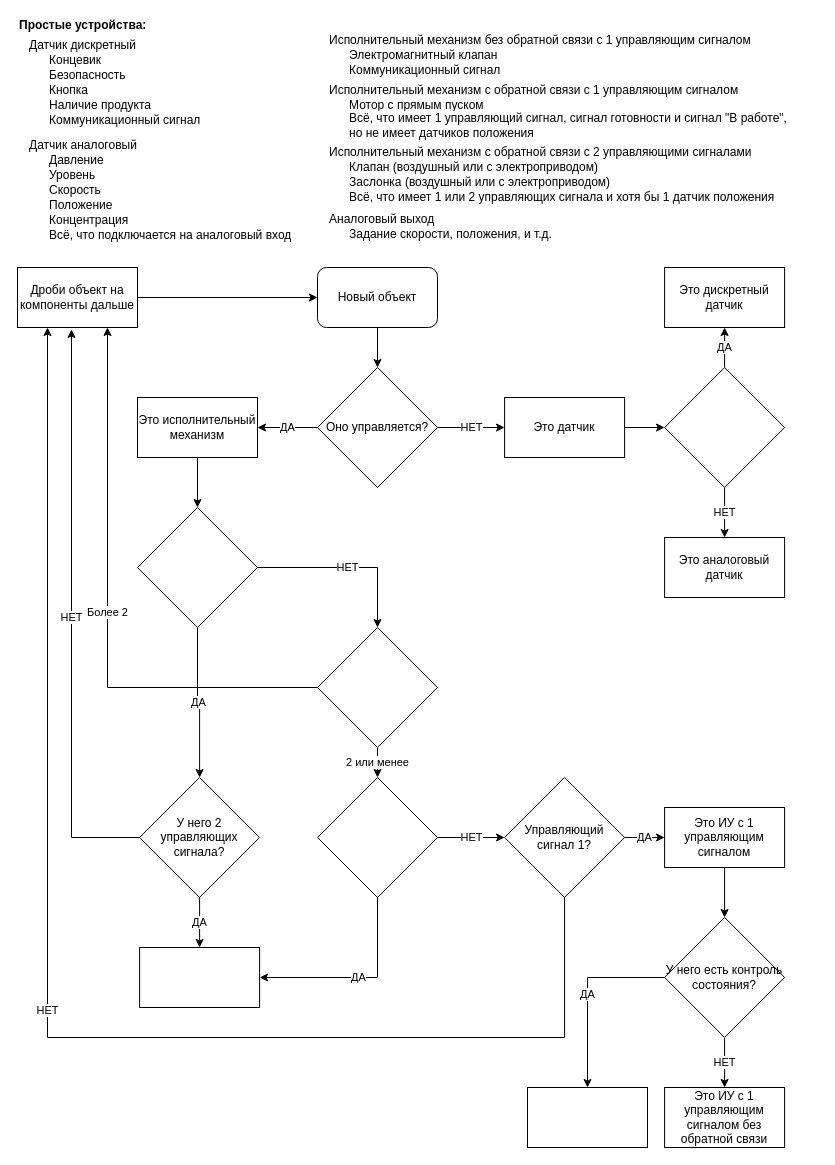
Some shapes in this 835 by 1165 pixel diagram are drawn without their labels. The shapes that lost their labels are listed below. From the top down, each one's box as (x1, y1, x2, y2) in pixels, then its label:
(664, 366, 785, 488): Оно дискретное?
(136, 506, 258, 628): У него есть взаимоислючающие управлющиех сигналы?
(316, 626, 438, 748): У него есть датчики крайних положений (не более 2)?
(316, 776, 438, 898): У него есть датчики крайних положений?
(139, 946, 260, 1008): Это ИУ с 2 управляющими сигналами
(526, 1086, 648, 1148): Это ИУ с 1 управляющим сигналом с обратной связью
